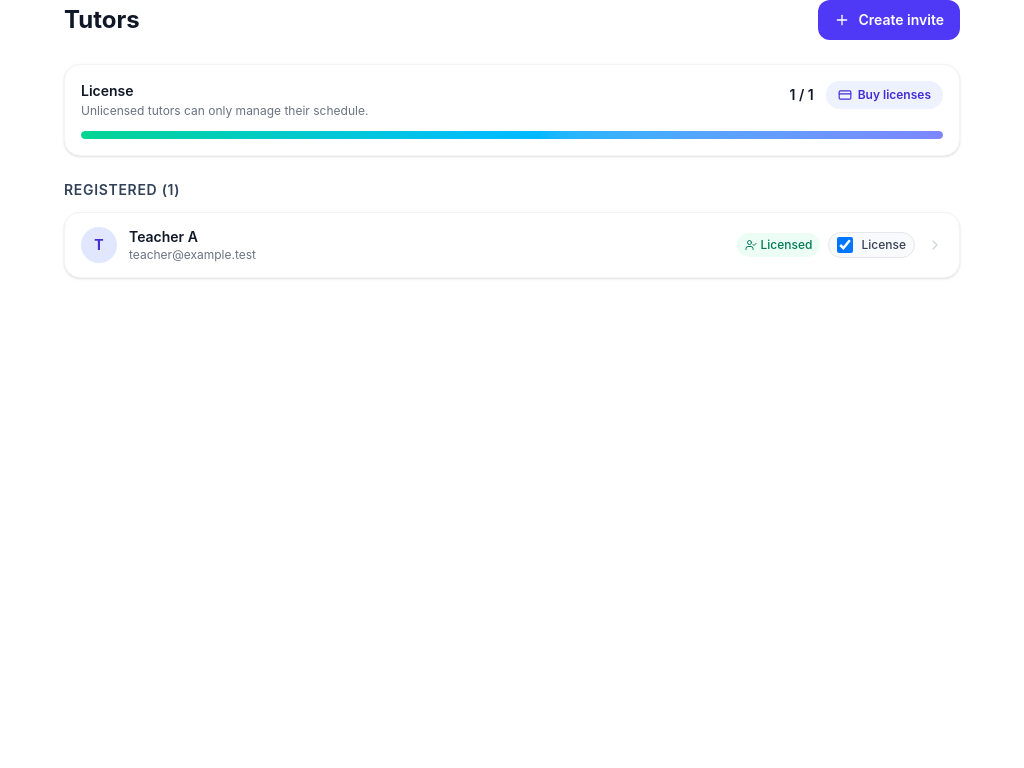
school administrator teacher-pay details › preserves the existing organization default fallback for company teacher pay
Click the button "Teacher A": (99, 245) [64, 212, 960, 278]
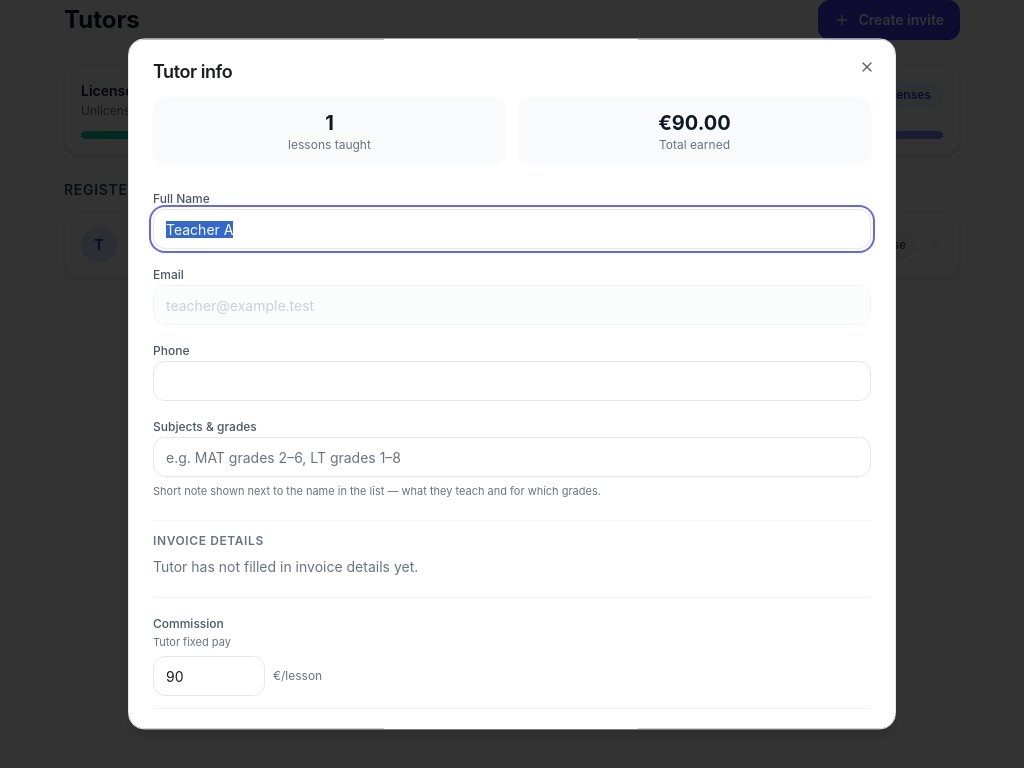
Expected: the text "€90.00" is shown, [658, 111, 731, 135]
Expected: the number field holds "90", [153, 656, 265, 696]
